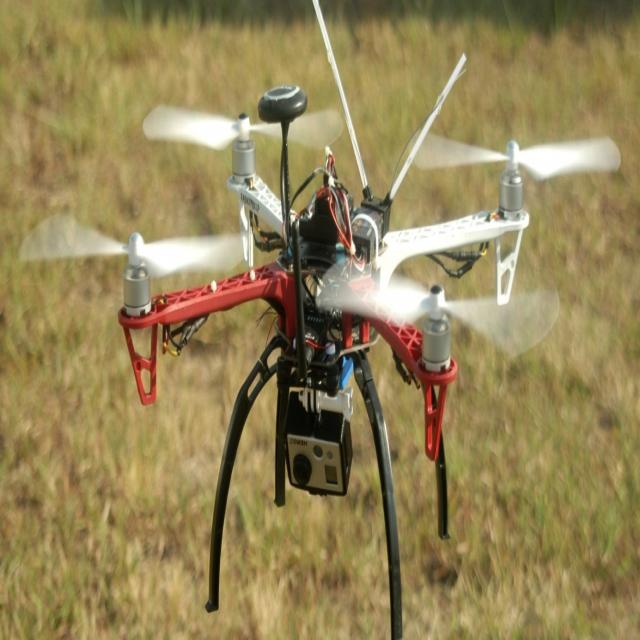drone: (31, 43, 629, 639)
